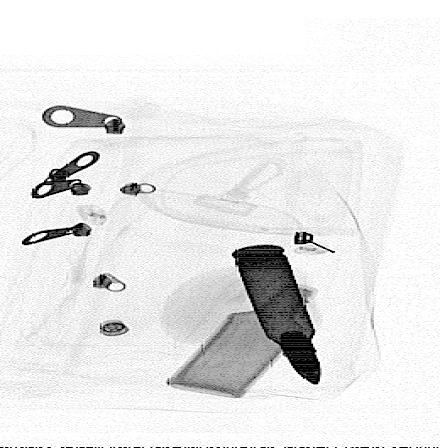Bullet: (230, 244, 322, 386)
